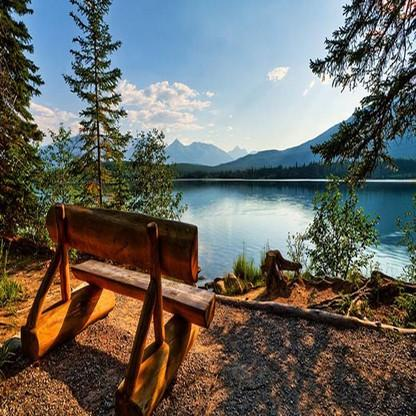obstacle: (22, 191, 222, 410)
